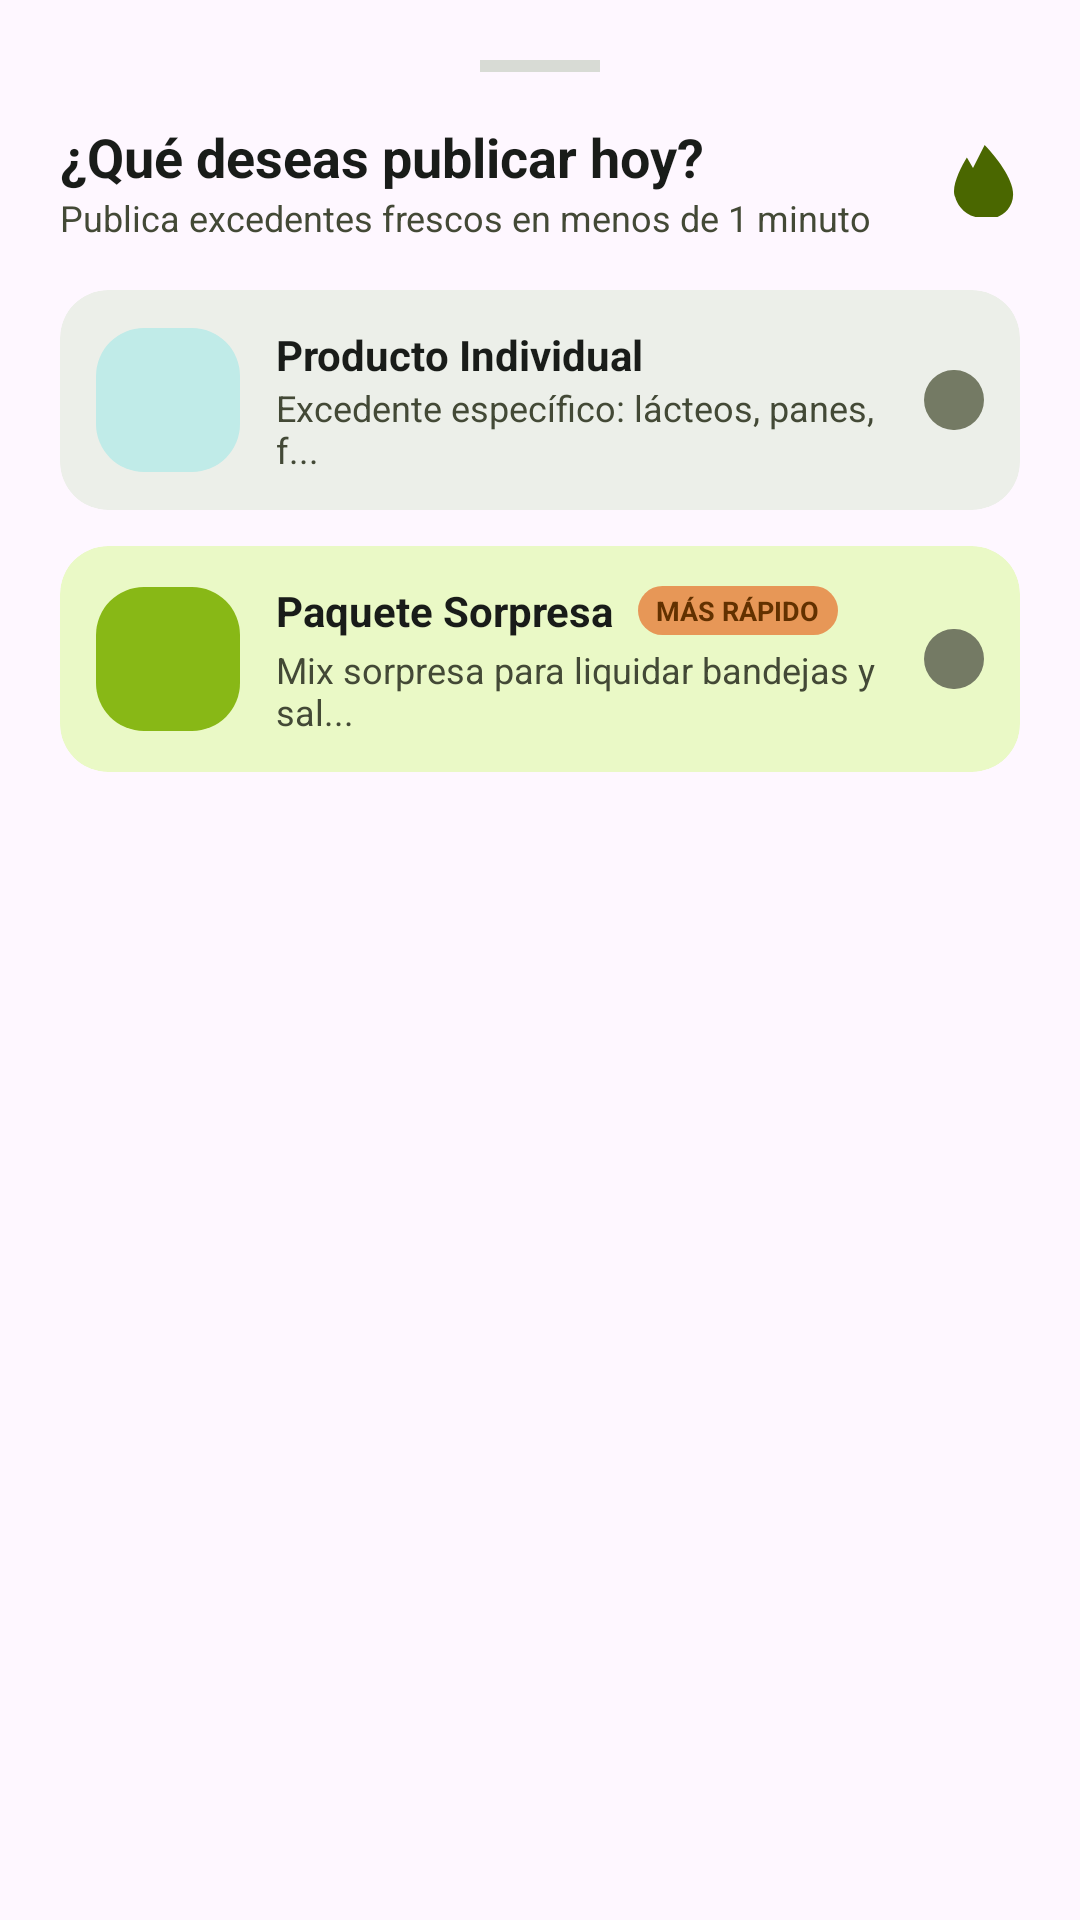

Named icons in this screenshot (1080w x 1920h) and their bounding boxes, (x1, y1, x2, y2):
flama: (954, 145, 1013, 217)
